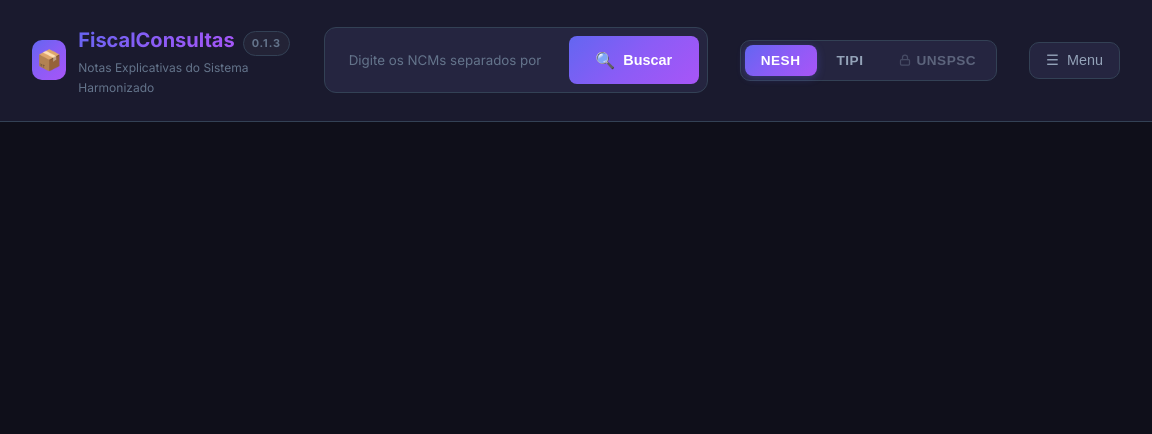
Test: Header › renders sign-in entry when the user is signed out
The width and height of the screenshot is (1152, 434).
Click the button "☰ Menu".
click(1075, 60)  # box [1029,42,1120,79]
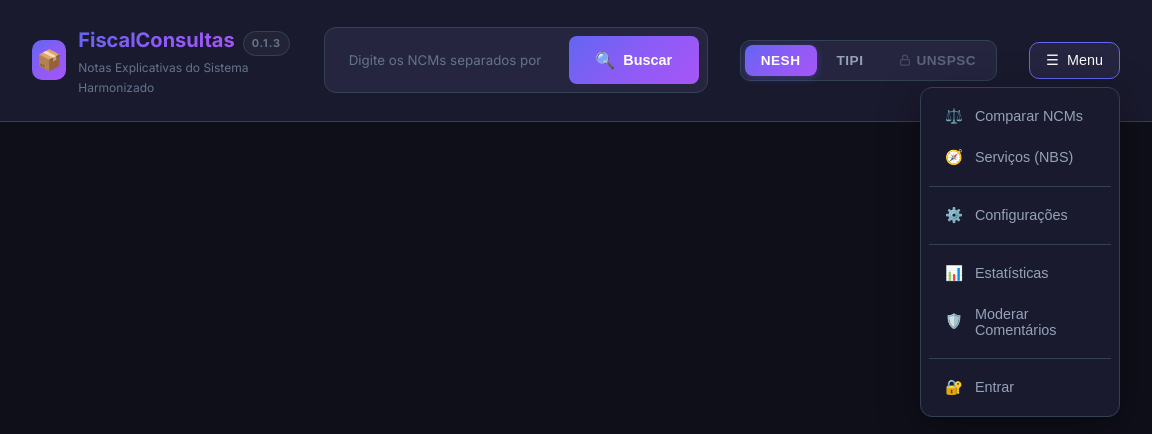
Expected: the button "🔐 Entrar" is shown, [929,367,1111,408]
